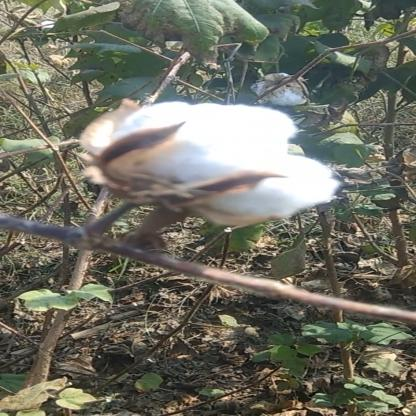cotton_ready: (69, 101, 350, 286)
